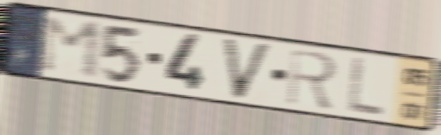4: (163, 30, 212, 96)
5: (97, 22, 145, 86)
L: (345, 54, 387, 120)
M: (39, 14, 104, 83)
R: (284, 46, 340, 113)
V: (219, 35, 275, 103)
